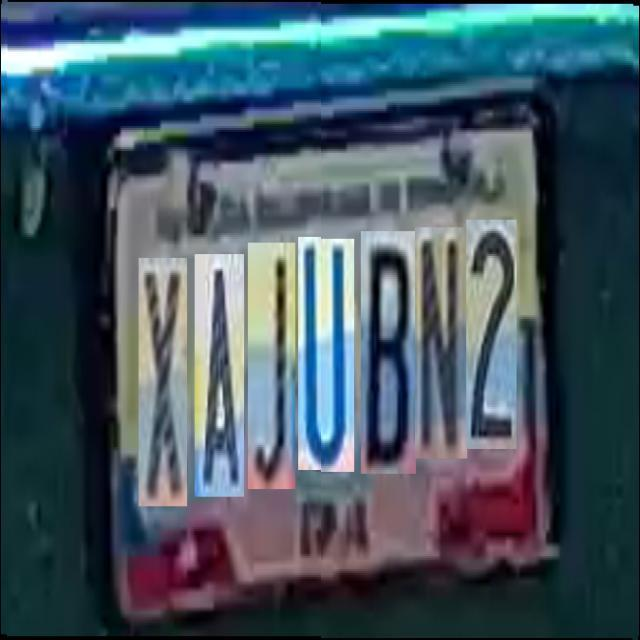2: (466, 218, 517, 448)
A: (194, 254, 244, 497)
B: (361, 229, 416, 472)
J: (248, 243, 296, 489)
N: (415, 226, 467, 457)
U: (298, 237, 354, 470)
X: (138, 258, 188, 507)
